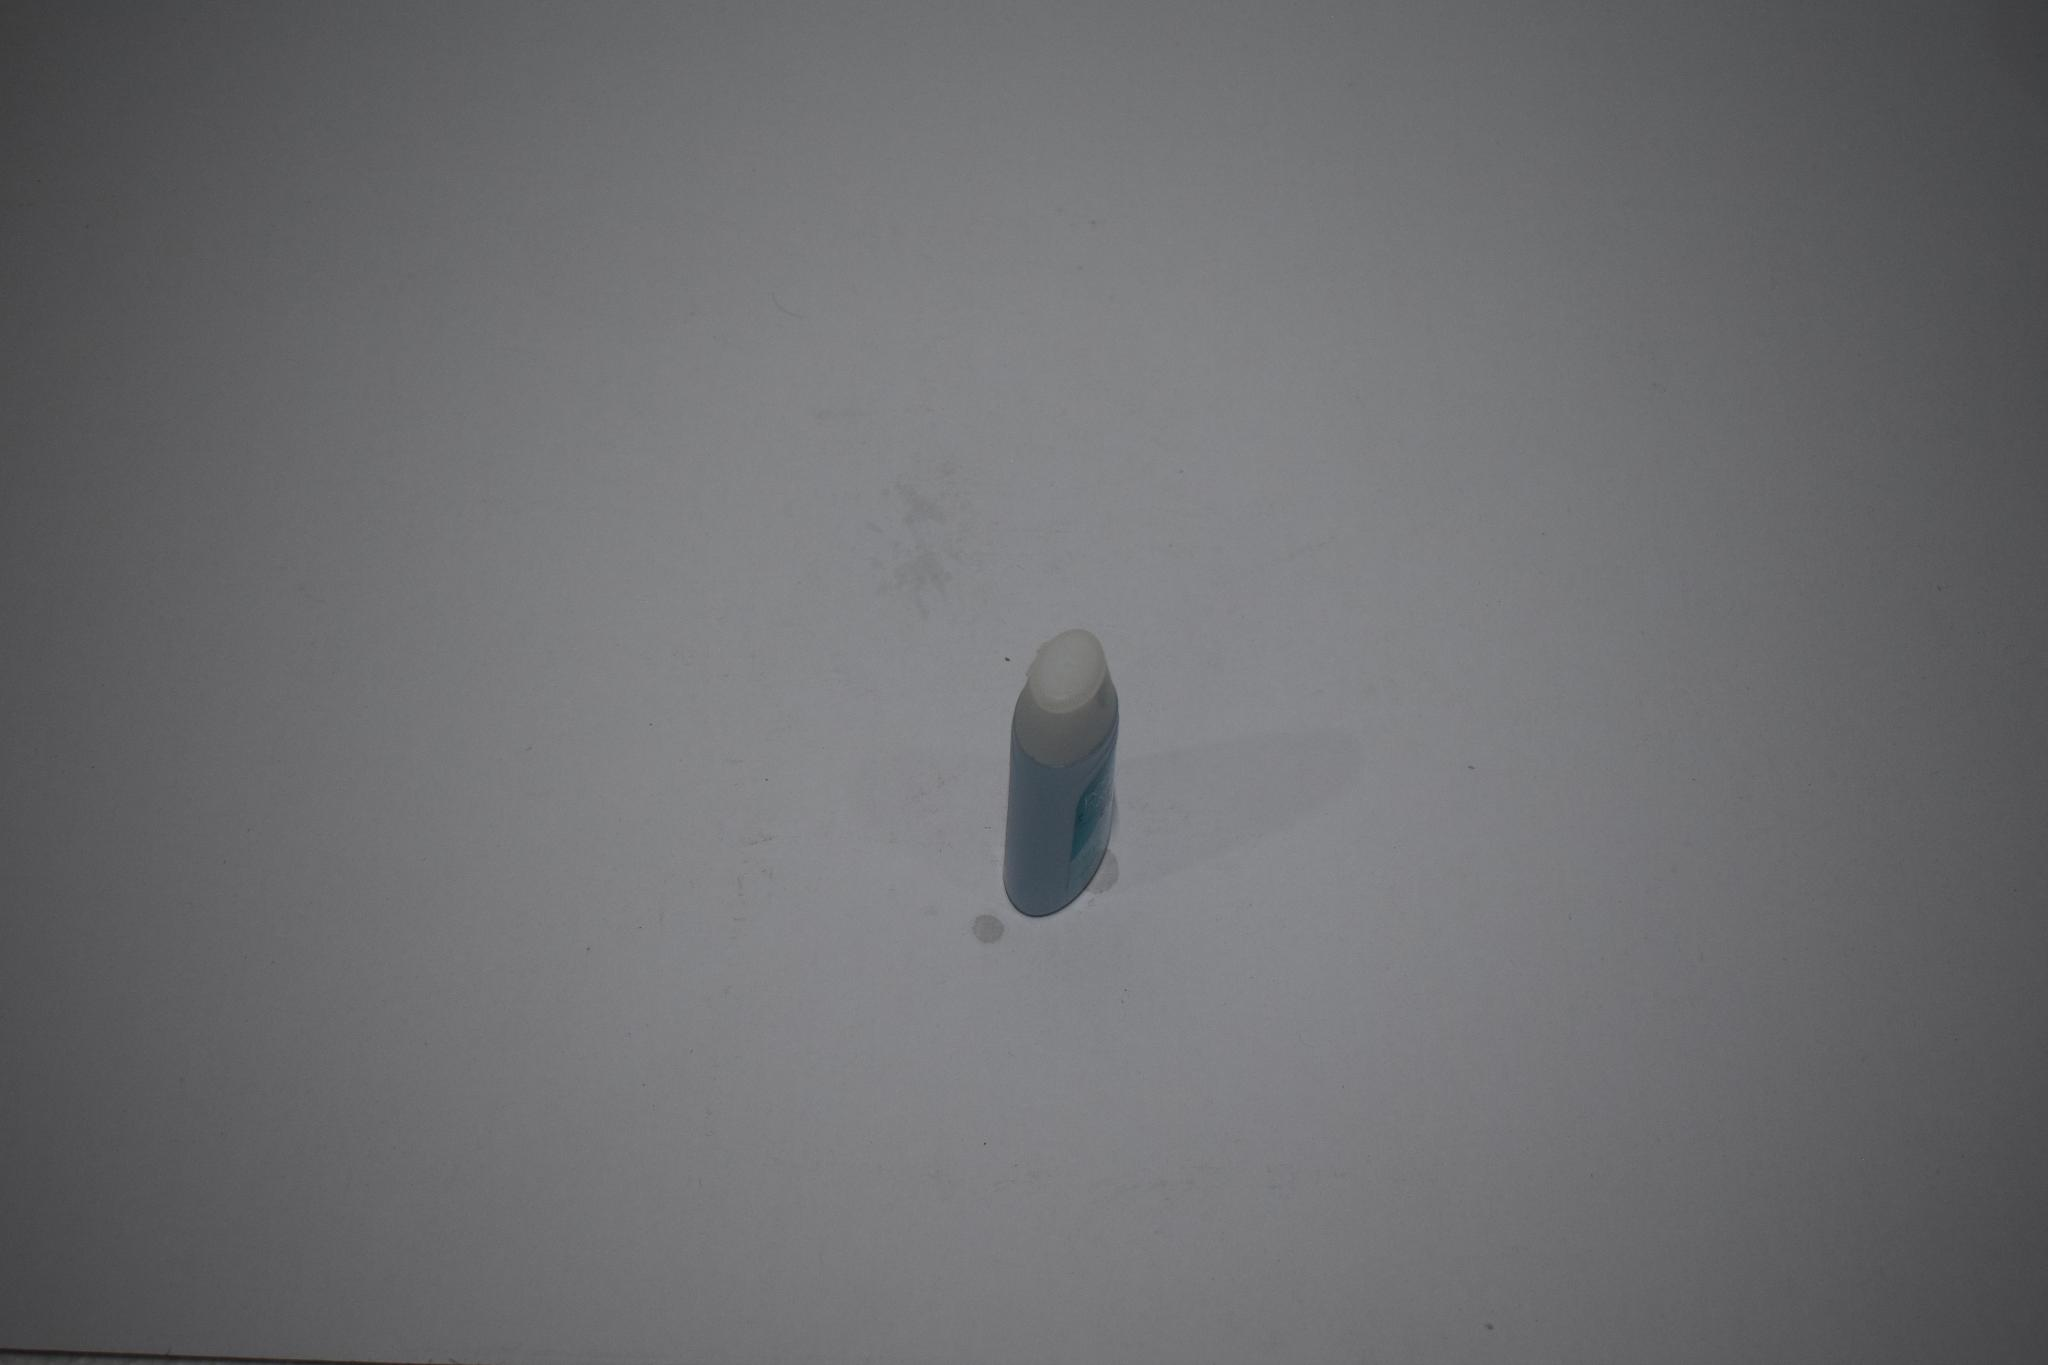bottle: (1013, 614, 1109, 926)
